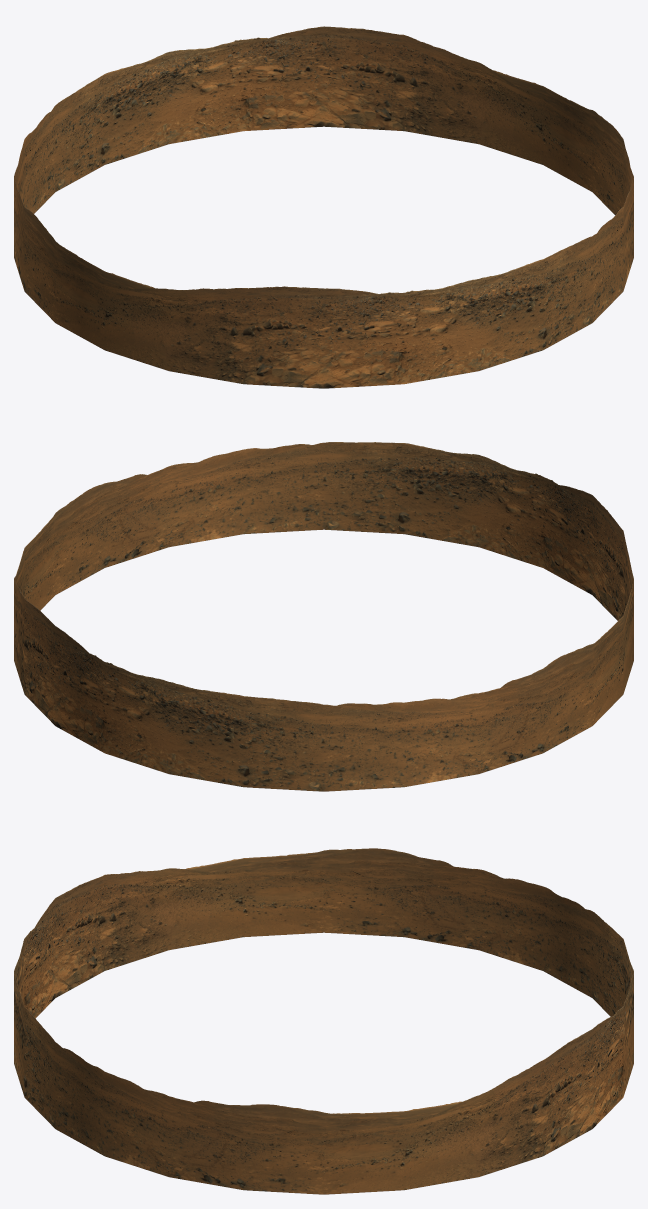
File: mars_hills.dae
3 renders of one model, top to bottom at view 1: azimuth 30°, elevation 25°; view 2: azimuth 150°, elevation 25°; view 3: azimuth 270°, elevation 25°, orthographic.
Visible parts, largest first — view 1: hills; view 2: hills; view 3: hills.
Part boxes in pixels (box(x1,y1,x2,y2)): hills: box(14, 26, 633, 388); hills: box(14, 442, 633, 791); hills: box(14, 848, 633, 1194).
Size of the model in its own units: 300 by 300 by 60.09.
Materials: 1 (1 with a texture image).
